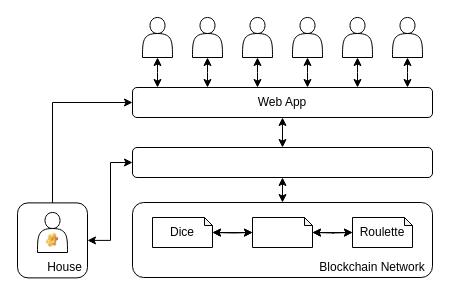
This 450x296 diagram has some shape labels left out. Each missing label, with the box of its shape:
Bank: (252, 216, 312, 248)
RPC API Node: (132, 146, 432, 178)
